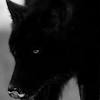Lobo: (3, 1, 93, 99)
